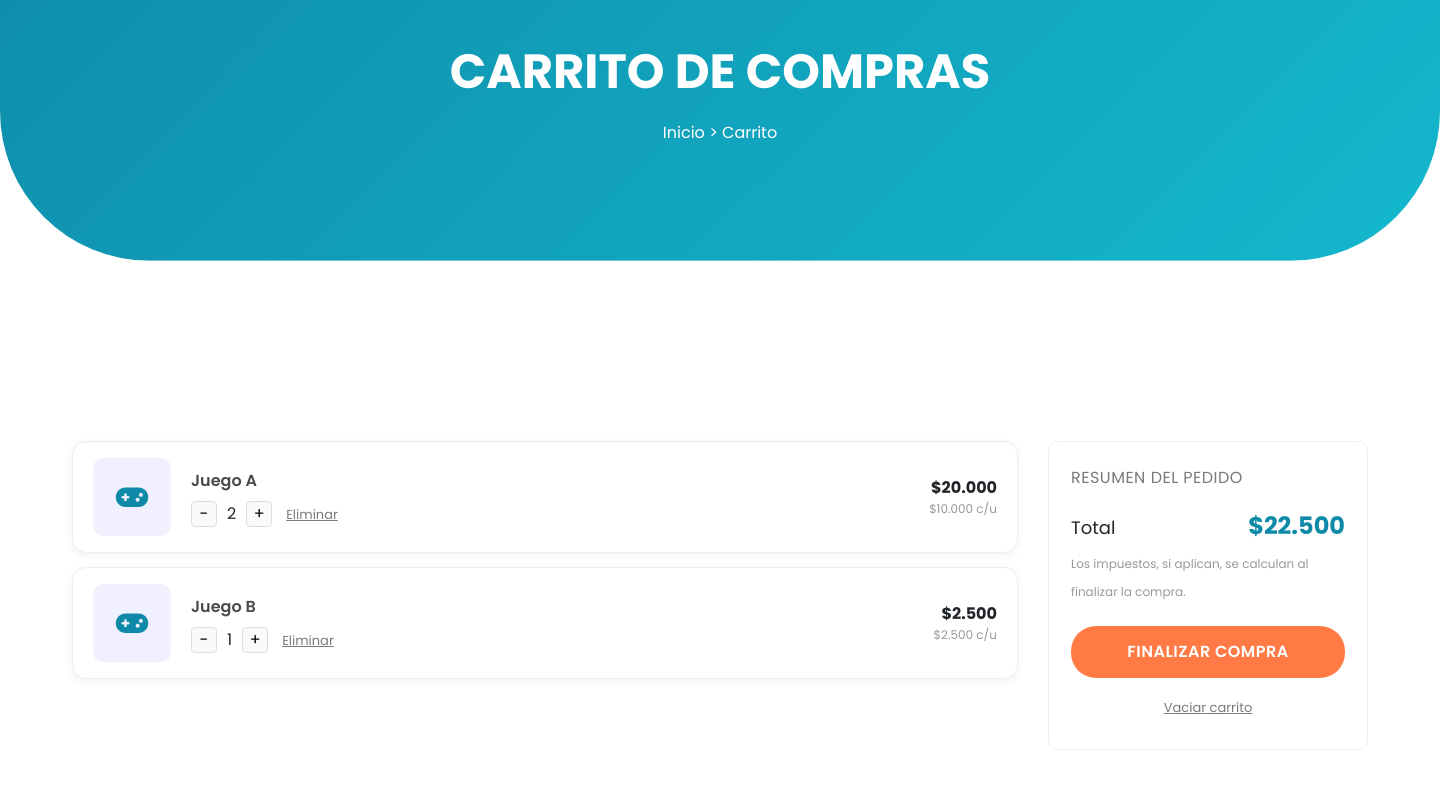
Test: Página Carrito › el botón + suma una unidad y actualiza el total
(page scrolled)
Click the button named "Sumar uno a Juego B": click(255, 640) top-left (242, 627), bottom-right (268, 653)
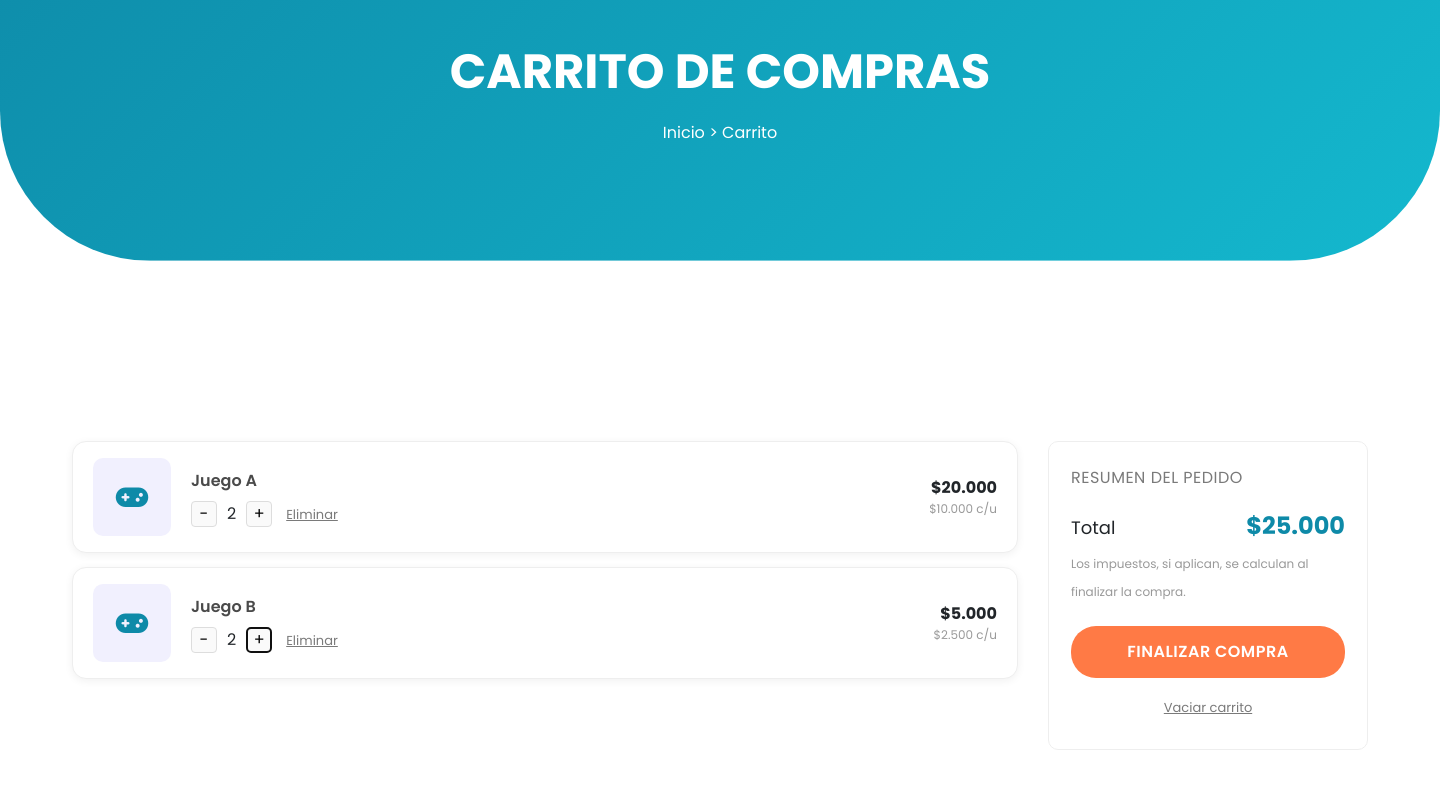
Now the text "$25.000" is shown, box top-left (1246, 508), bottom-right (1345, 544)
